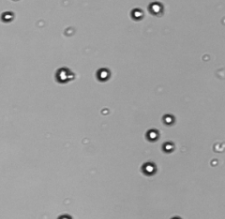Living Cell: (57, 67, 74, 82), (141, 161, 157, 174), (148, 2, 164, 14), (97, 69, 111, 80), (147, 128, 159, 140), (131, 8, 143, 20), (1, 10, 14, 21), (164, 114, 174, 124), (163, 141, 173, 151)
